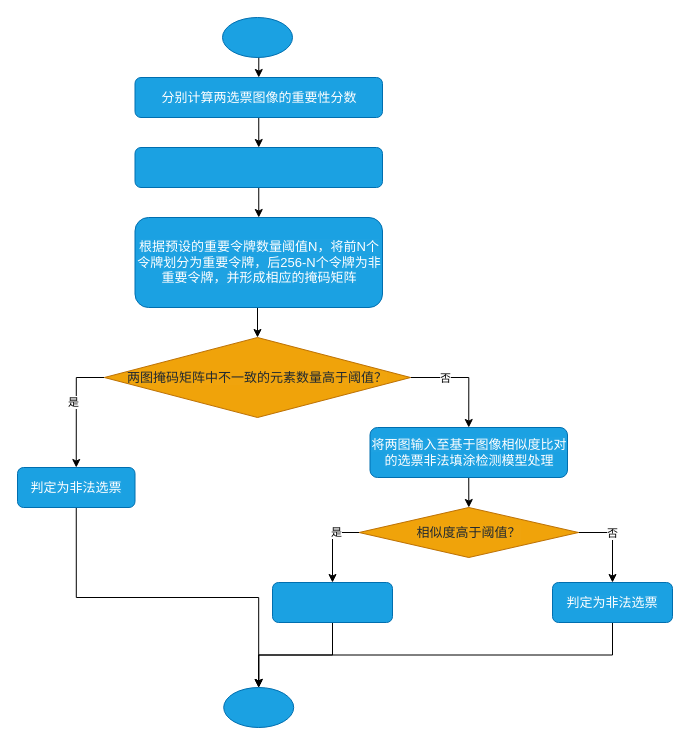
Image size: 690x745. Some labels were removed from this diagram. The shapes that lost their labels are listed below. From the top down, each one's centre as x and y in pixels, then its label:
At (x=257, y=37): "开始".
At (x=258, y=167): "分别根据重要性分数对令牌索引进行降序排序".
At (x=332, y=602): "判定为合法选票".
At (x=258, y=707): "结束".
